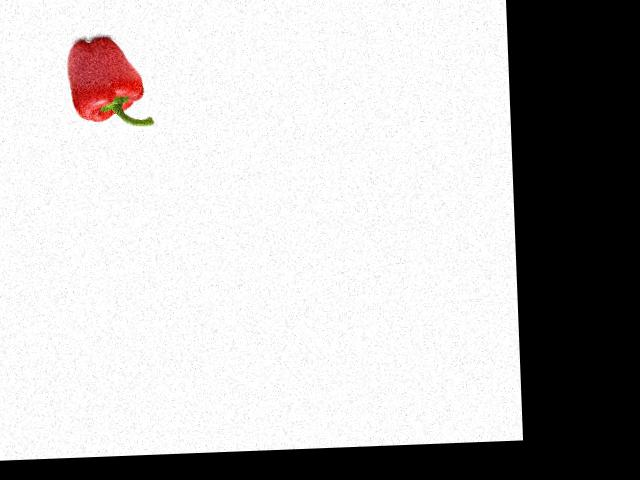bell_pepper: (61, 28, 156, 134)
